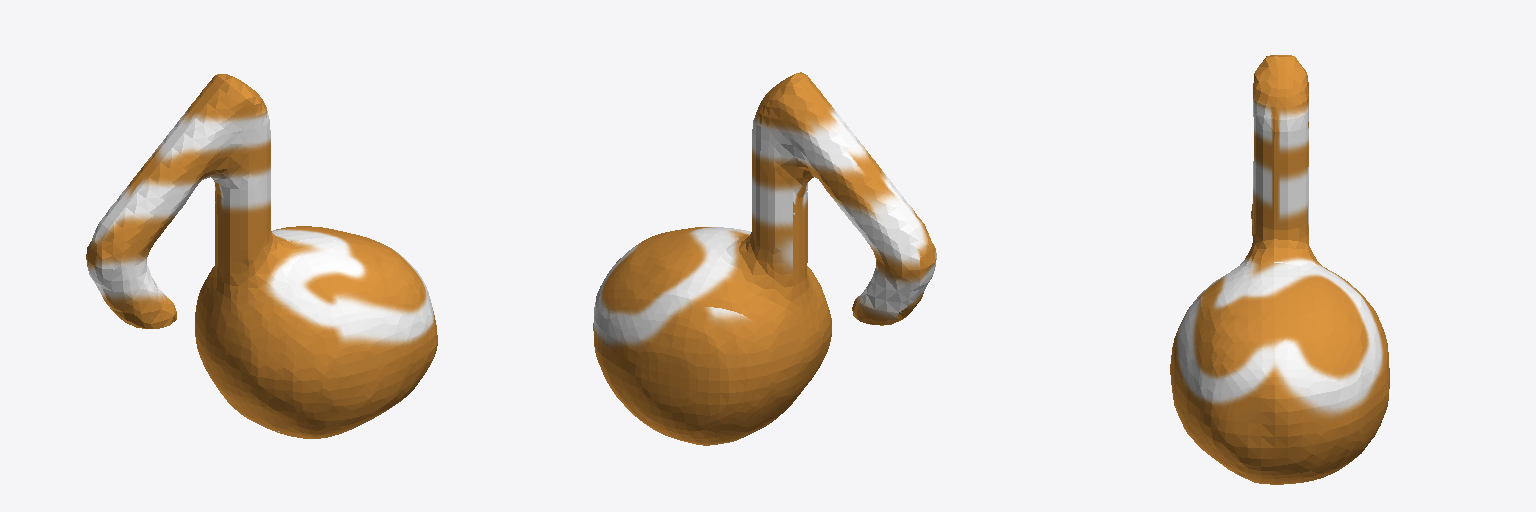
3 views of the same model, side by side, from view 1: azimuth 30°, elevation 25°; view 2: azimuth 150°, elevation 25°; view 3: azimuth 270°, elevation 25° (orthographic).
Parts seen in each view (by area): view 1: 球; view 2: 球; view 3: 球.
Part boxes in pixels (bbox=[...]): 球: bbox=[86, 74, 437, 438]; 球: bbox=[593, 72, 936, 445]; 球: bbox=[1170, 55, 1389, 484].
Bounding box in the file's own units: 2.84 × 3.09 × 1.64.
1 materials, 1 textured.